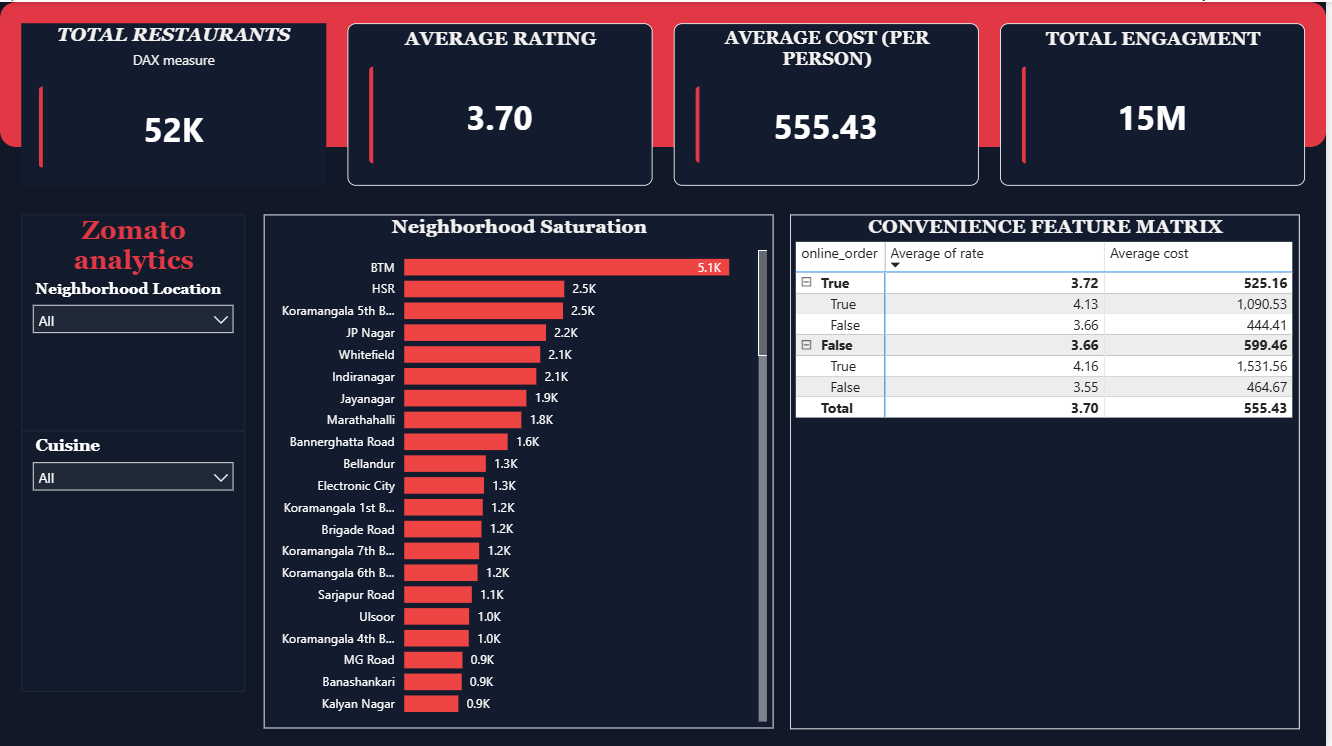

The page's visual inventory and layout, read from the dashboard file:
{"tool":"powerbi","page":{"name":"Executive Market Overview","canvas":[1280,720],"ordinal":0},"visuals":[{"type":"shape","box":[0,0,1280,140],"z":0},{"type":"cardVisual","title":"TOTAL RESTAURANTS ","fields":{"Data":["production_zomato.Total_restaurant"]},"box":[20.5,20.5,294.4,156.8],"z":1000},{"type":"cardVisual","title":"AVERAGE RATING","fields":{"Data":["production_zomato.Average Rating"]},"box":[335.4,20.5,294.4,156.8],"z":2000},{"type":"cardVisual","title":"AVERAGE COST (PER PERSON)","fields":{"Data":["Avg(production_zomato.approx_cost_for_two_people)"]},"box":[650.3,20.5,294.4,156.8],"z":3000},{"type":"cardVisual","title":"TOTAL ENGAGMENT","fields":{"Data":["Sum(production_zomato.votes)"]},"box":[965.2,20.5,294.4,156.8],"z":4000},{"type":"clusteredBarChart","title":"Neighborhood Saturation","fields":{"Category":["production_zomato.location"],"Y":["production_zomato.Total_restaurant"]},"box":[255,205,492,495.8],"z":5000},{"type":"pivotTable","title":"CONVENIENCE FEATURE MATRIX","fields":{"Rows":["production_zomato.online_order","production_zomato.book_table"],"Values":["Avg(production_zomato.rate)","Avg(production_zomato.approx_cost_for_two_people)"]},"box":[762,205.1,492,497.1],"z":6000},{"type":"slicer","title":"Zomato analytics","fields":{"Values":["production_zomato.listed_in(city)"]},"box":[20.5,205.1,216,208.7],"z":7000},{"type":"slicer","title":"Cuisine style","fields":{"Values":["production_zomato.cuisines"]},"box":[20.5,413.8,216,252.1],"z":8000}]}

Visuals, with their boxes in screenshot pixels (x1, y1, x2, y2), scaled from the page's 1280x720 canvas onto the 1332x746 screenshot:
shape: box=[0, 0, 1331, 145]
"TOTAL RESTAURANTS " cardVisual: box=[21, 21, 328, 184]
"AVERAGE RATING" cardVisual: box=[349, 21, 655, 184]
"AVERAGE COST (PER PERSON)" cardVisual: box=[677, 21, 983, 184]
"TOTAL ENGAGMENT" cardVisual: box=[1004, 21, 1311, 184]
"Neighborhood Saturation" clusteredBarChart: box=[265, 212, 777, 726]
"CONVENIENCE FEATURE MATRIX" pivotTable: box=[793, 213, 1305, 728]
"Zomato analytics" slicer: box=[21, 213, 246, 429]
"Cuisine style" slicer: box=[21, 429, 246, 690]
